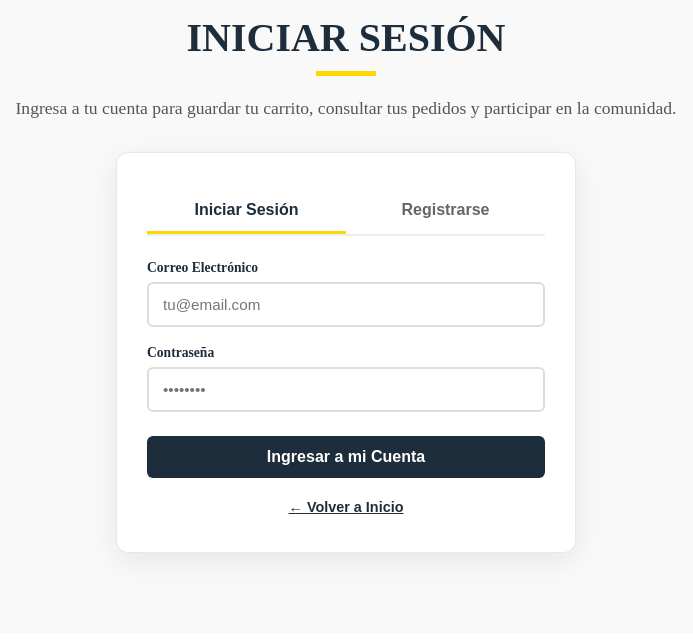
Test case: Login › muestra el error del API si las credenciales son inválidas
This screenshot has width=693, height=639.
Type "ana@x.co" into the field labelled "Correo Electrónico" at (346, 304), box [147,282,545,327]
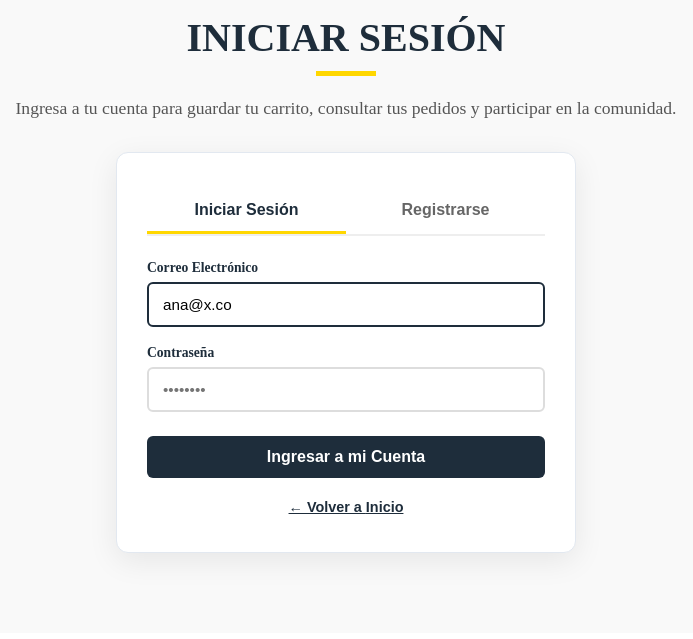
Type "mala" into the password field labelled "Contraseña" at (346, 389), box [147,367,545,412]
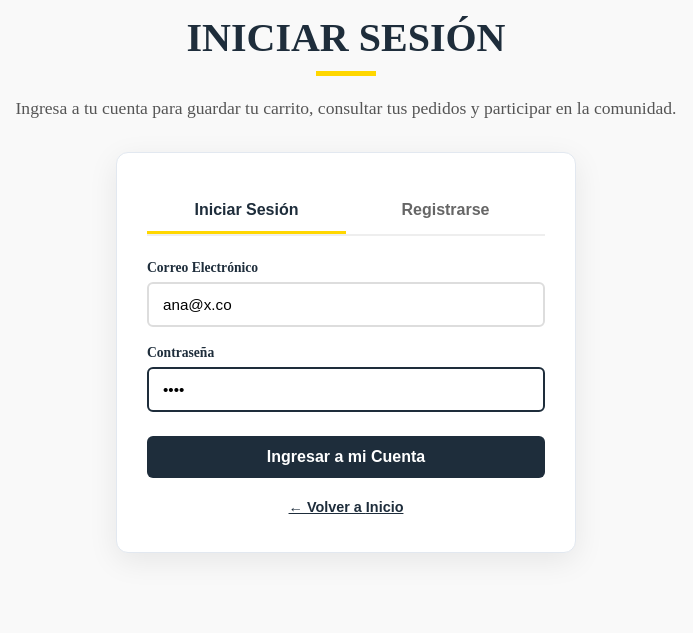
Click the button "Ingresar a mi Cuenta" at (346, 457), box [147,436,545,478]
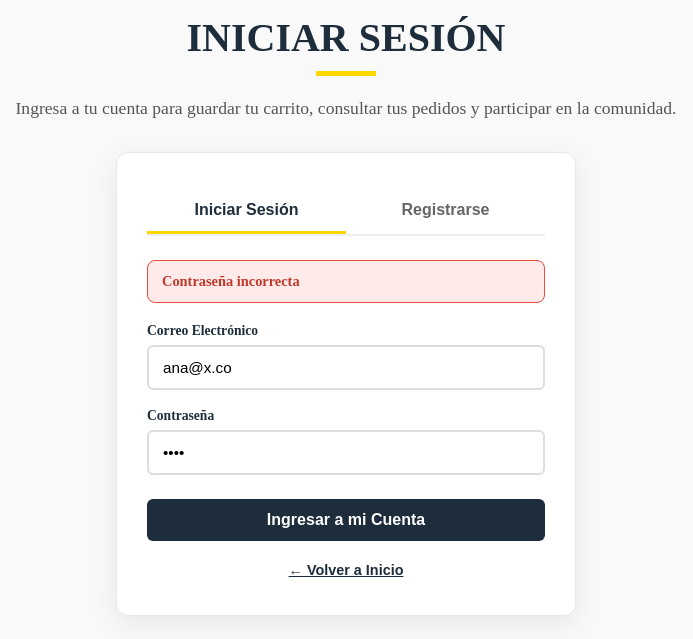
Now the text "Contraseña incorrecta" is shown, box [147,260,545,303]
